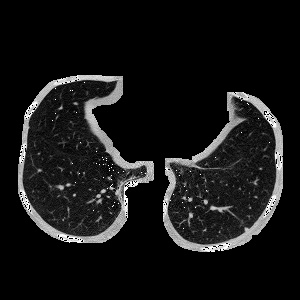PN: (243, 226, 249, 232)
